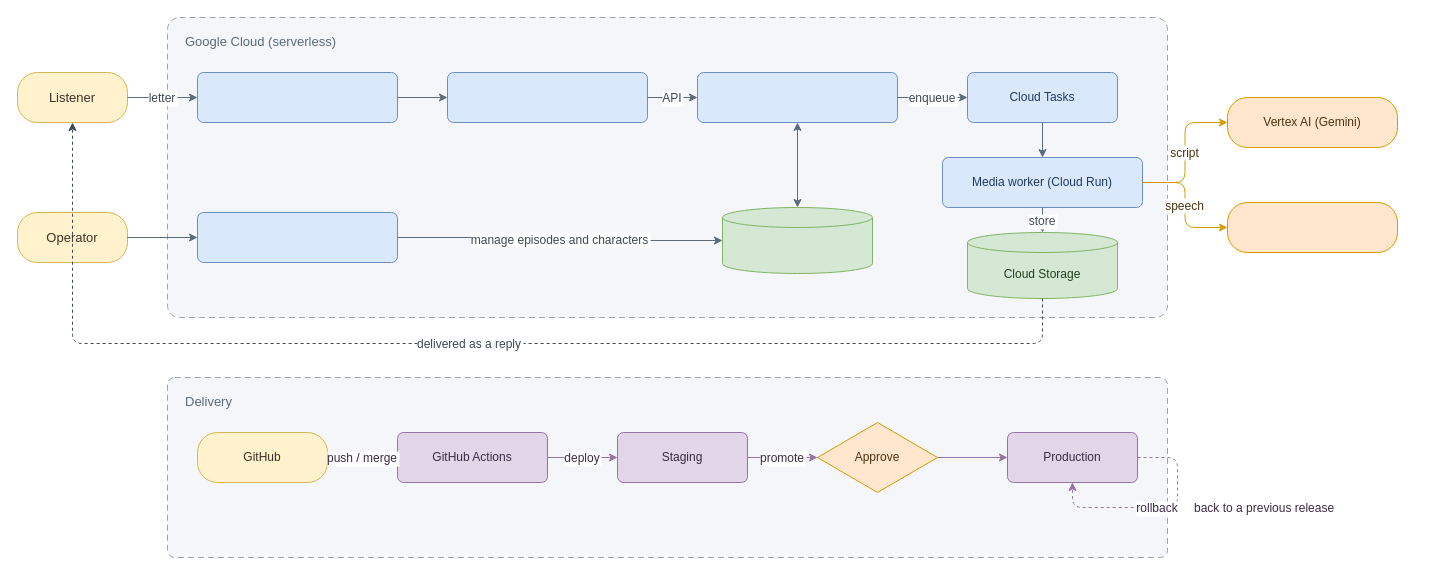
The diagram is 1440 pixels wide and 575 high, and some of its shapes have lost their labels. The centre of each missing label's shape, as x and y in pixels:
Admin console (Cloud Run): the point at 297,237
Backend (Cloud Run): the point at 797,97
Cloud CDN / Load Balancing: the point at 297,97
Cloud SQL: the point at 797,240
EmbodyMe TTS API: the point at 1312,227
Frontend (Cloud Run): the point at 547,97
